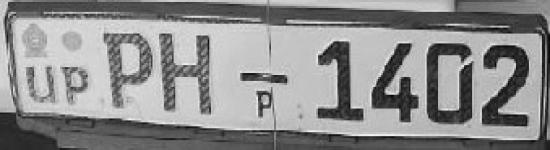-: (234, 65, 291, 92)
0: (422, 38, 476, 131)
1: (304, 33, 369, 128)
2: (475, 37, 535, 132)
4: (368, 36, 422, 128)
H: (158, 24, 214, 120)
P: (100, 26, 156, 111), (60, 61, 92, 110)
U: (23, 60, 59, 108)
